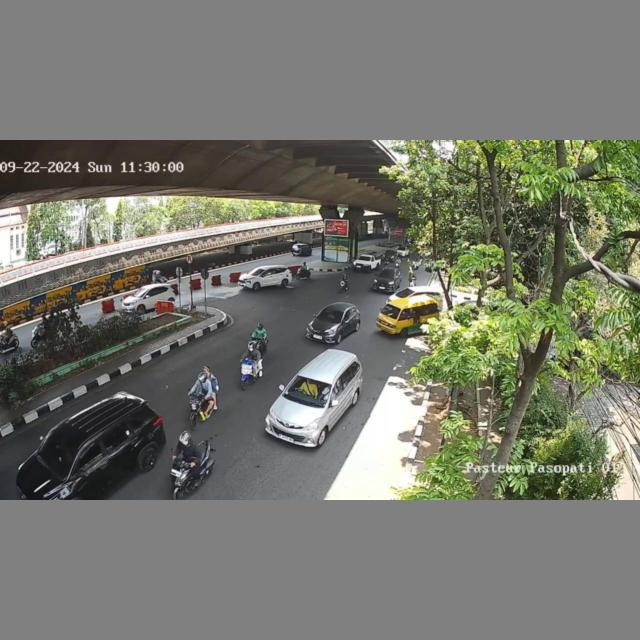windshield: (37, 433, 80, 477), (283, 374, 331, 405), (316, 306, 346, 324), (379, 270, 394, 281)
